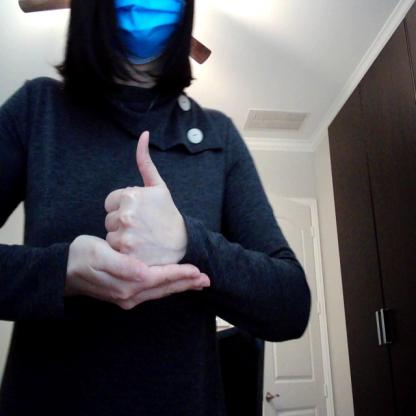help: (62, 129, 214, 314)
